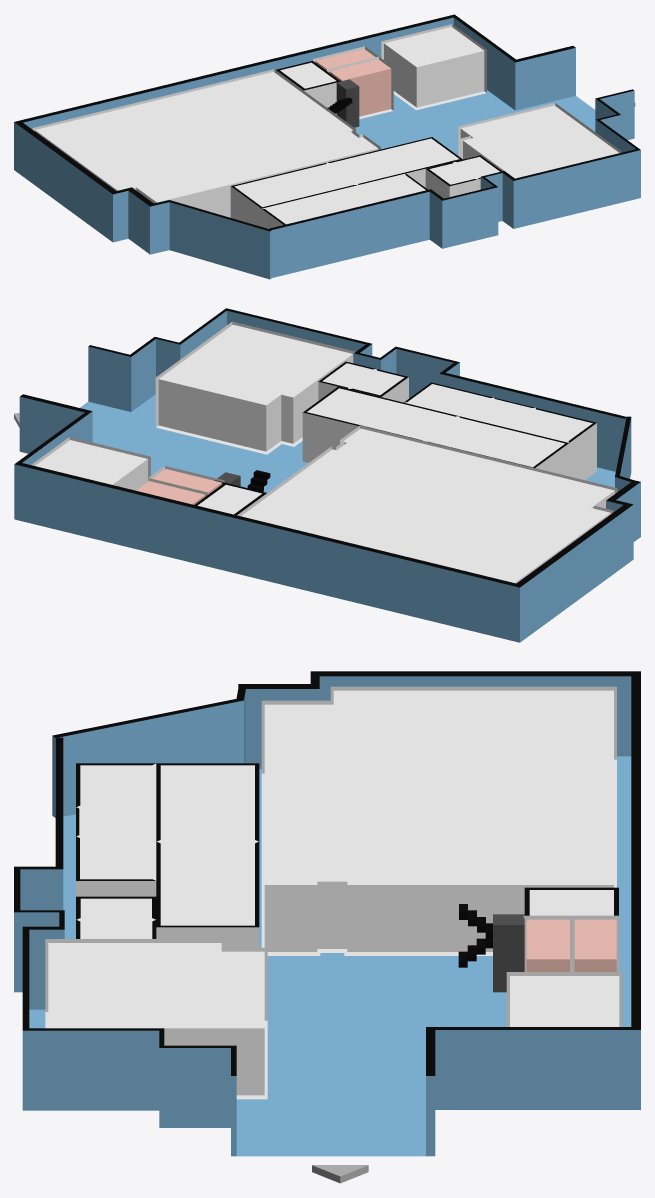
3 renders of one model, top to bottom at view 1: azimuth 30°, elevation 25°; view 2: azimuth 150°, elevation 25°; view 3: azimuth 270°, elevation 25°, orthographic. The views are drawn at different scales.
Visible parts, largest first — view 1: object, room_L_1_2, room_L_1_3, room_L_1_1, トイレ_L_1_2, object_line, object_line.003, エレベーター_L_1_1, object_line.004, トイレ_L_1_1, object_line.002; view 2: object, room_L_1_2, room_L_1_3, room_L_1_1, object_line, object_line.004, トイレ_L_1_2, トイレ_L_1_1, object_line.003; view 3: object, room_L_1_2, room_L_1_3, room_L_1_1, object_line, トイレ_L_1_2, トイレ_L_1_1, エレベーター_L_1_1, object_line.004, 階段_L_1_1, object_line.003, transitionTo_L_1_1.
Part boxes in pixels (x1,y1,x2,y2): object: [14, 14, 640, 279]; room_L_1_2: [35, 72, 378, 217]; room_L_1_3: [460, 105, 619, 178]; room_L_1_1: [384, 27, 484, 107]; トイレ_L_1_2: [329, 59, 391, 116]; object_line: [32, 69, 380, 149]; object_line.003: [381, 24, 486, 110]; エレベーター_L_1_1: [336, 79, 359, 127]; object_line.004: [458, 103, 621, 158]; トイレ_L_1_1: [315, 49, 375, 70]; object_line.002: [327, 56, 393, 119]; object: [14, 308, 640, 642]; room_L_1_2: [241, 428, 614, 583]; room_L_1_3: [158, 324, 352, 451]; room_L_1_1: [35, 440, 147, 489]; object_line: [237, 425, 617, 516]; object_line.004: [155, 321, 355, 454]; トイレ_L_1_2: [152, 469, 221, 494]; トイレ_L_1_1: [136, 481, 205, 504]; object_line.003: [31, 437, 150, 477]; object: [14, 671, 640, 1156]; room_L_1_2: [264, 690, 613, 951]; room_L_1_3: [48, 943, 264, 1095]; room_L_1_1: [510, 976, 619, 1026]; object_line: [261, 686, 616, 955]; トイレ_L_1_2: [526, 919, 569, 971]; トイレ_L_1_1: [574, 919, 616, 971]; エレベーター_L_1_1: [493, 914, 524, 992]; object_line.004: [45, 939, 267, 1099]; 階段_L_1_1: [458, 904, 492, 967]; object_line.003: [506, 972, 622, 1026]; transitionTo_L_1_1: [312, 1165, 368, 1183].
Bounding box in the file's own units: 2.52 × 0.2255 × 1.54.
